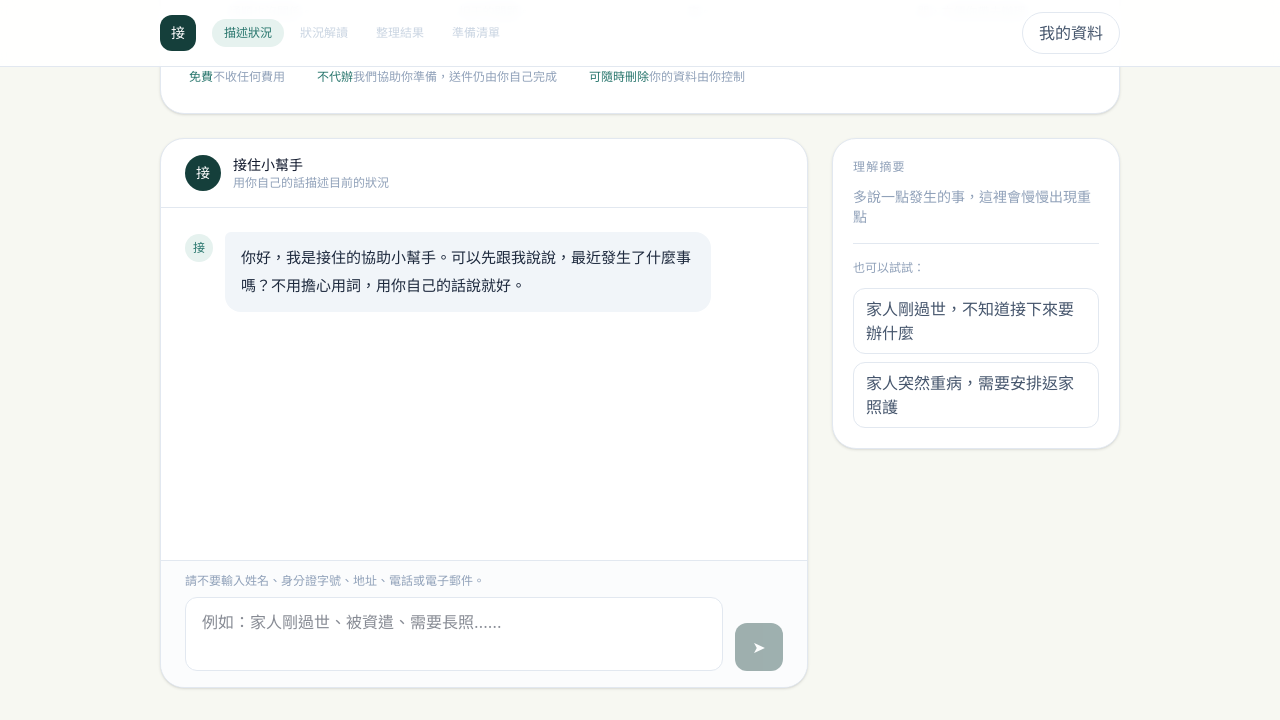
NavigatorFlow › shows the intro hero before the conversation starts, then hides it
(page scrolled)
Type "家人剛過世，不知道接下來要辦什麼" into the text box named "輸入訊息" at (454, 634), box [185, 597, 723, 671]
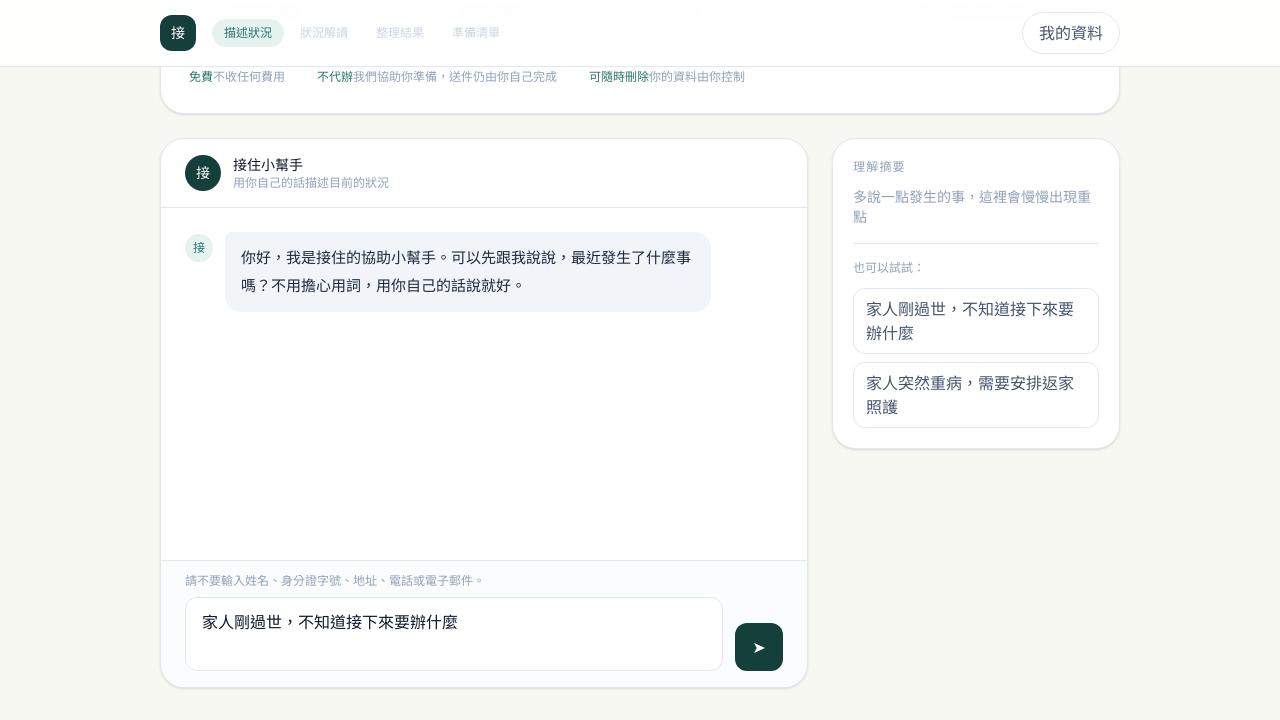
Click the button named "送出" at (759, 647), box [735, 623, 783, 671]
(page scrolled)
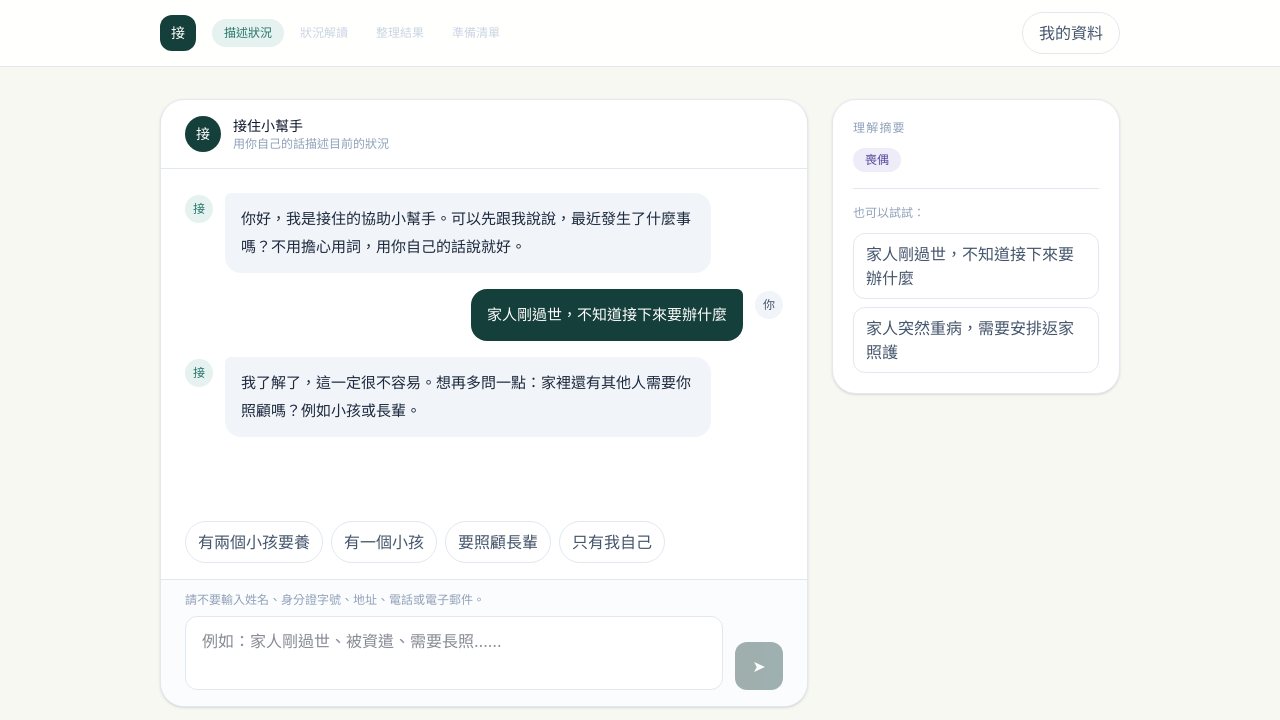
Expected: the text "喪偶" is shown, [853, 148, 901, 172]
